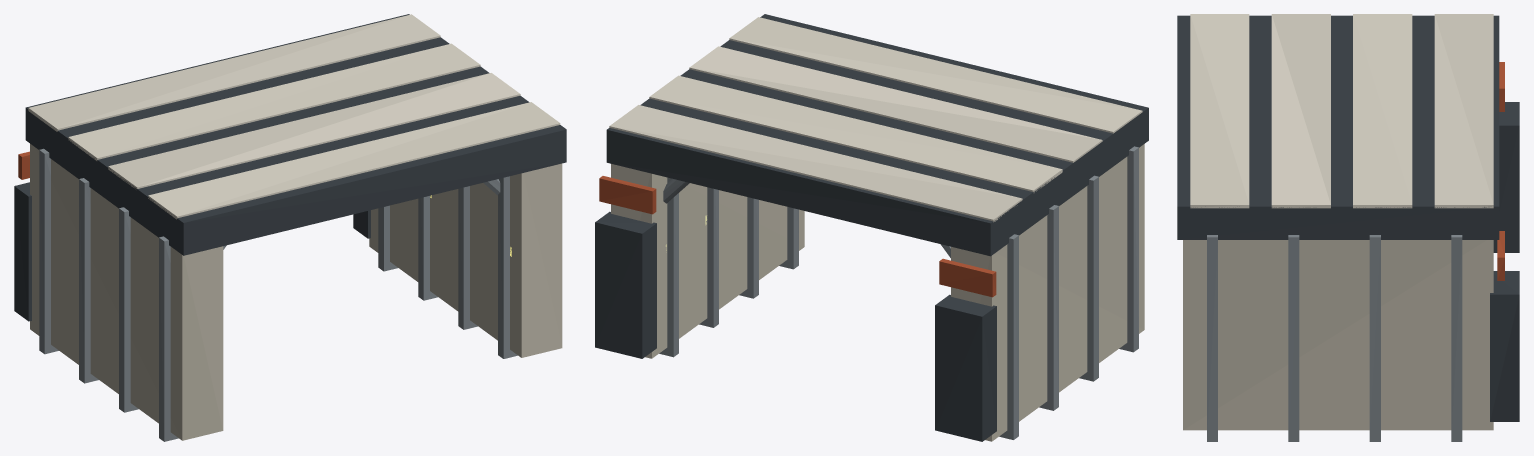
The model's file is service-shelter.glb.
3 views of the same model, side by side, from view 1: azimuth 30°, elevation 25°; view 2: azimuth 150°, elevation 25°; view 3: azimuth 270°, elevation 25° (orthographic). The views are drawn at different scales.
Visible parts, largest first — view 1: service-shelter__edge, service-shelter__ceramic, service-shelter__graphite, service-shelter__metal; view 2: service-shelter__graphite, service-shelter__edge, service-shelter__ceramic, service-shelter__metal, service-shelter__oxide; view 3: service-shelter__ceramic, service-shelter__edge, service-shelter__graphite, service-shelter__metal, service-shelter__oxide.
Boxes of the visible parts, box(x1,y1,x2,y2) form: service-shelter__edge: box(28, 14, 560, 219); service-shelter__ceramic: box(30, 144, 562, 440); service-shelter__graphite: box(14, 14, 566, 321); service-shelter__metal: box(39, 148, 517, 441); service-shelter__graphite: box(595, 14, 1148, 441); service-shelter__edge: box(609, 17, 1142, 222); service-shelter__ceramic: box(611, 144, 1144, 441); service-shelter__metal: box(659, 146, 1138, 439); service-shelter__oxide: box(599, 176, 996, 297); service-shelter__ceramic: box(1183, 240, 1493, 430); service-shelter__edge: box(1190, 14, 1493, 208); service-shelter__graphite: box(1177, 15, 1519, 421); service-shelter__metal: box(1207, 235, 1462, 441); service-shelter__oxide: box(1497, 62, 1504, 280).
Bounding box in the file's own units: 125 × 70 × 92.5.
